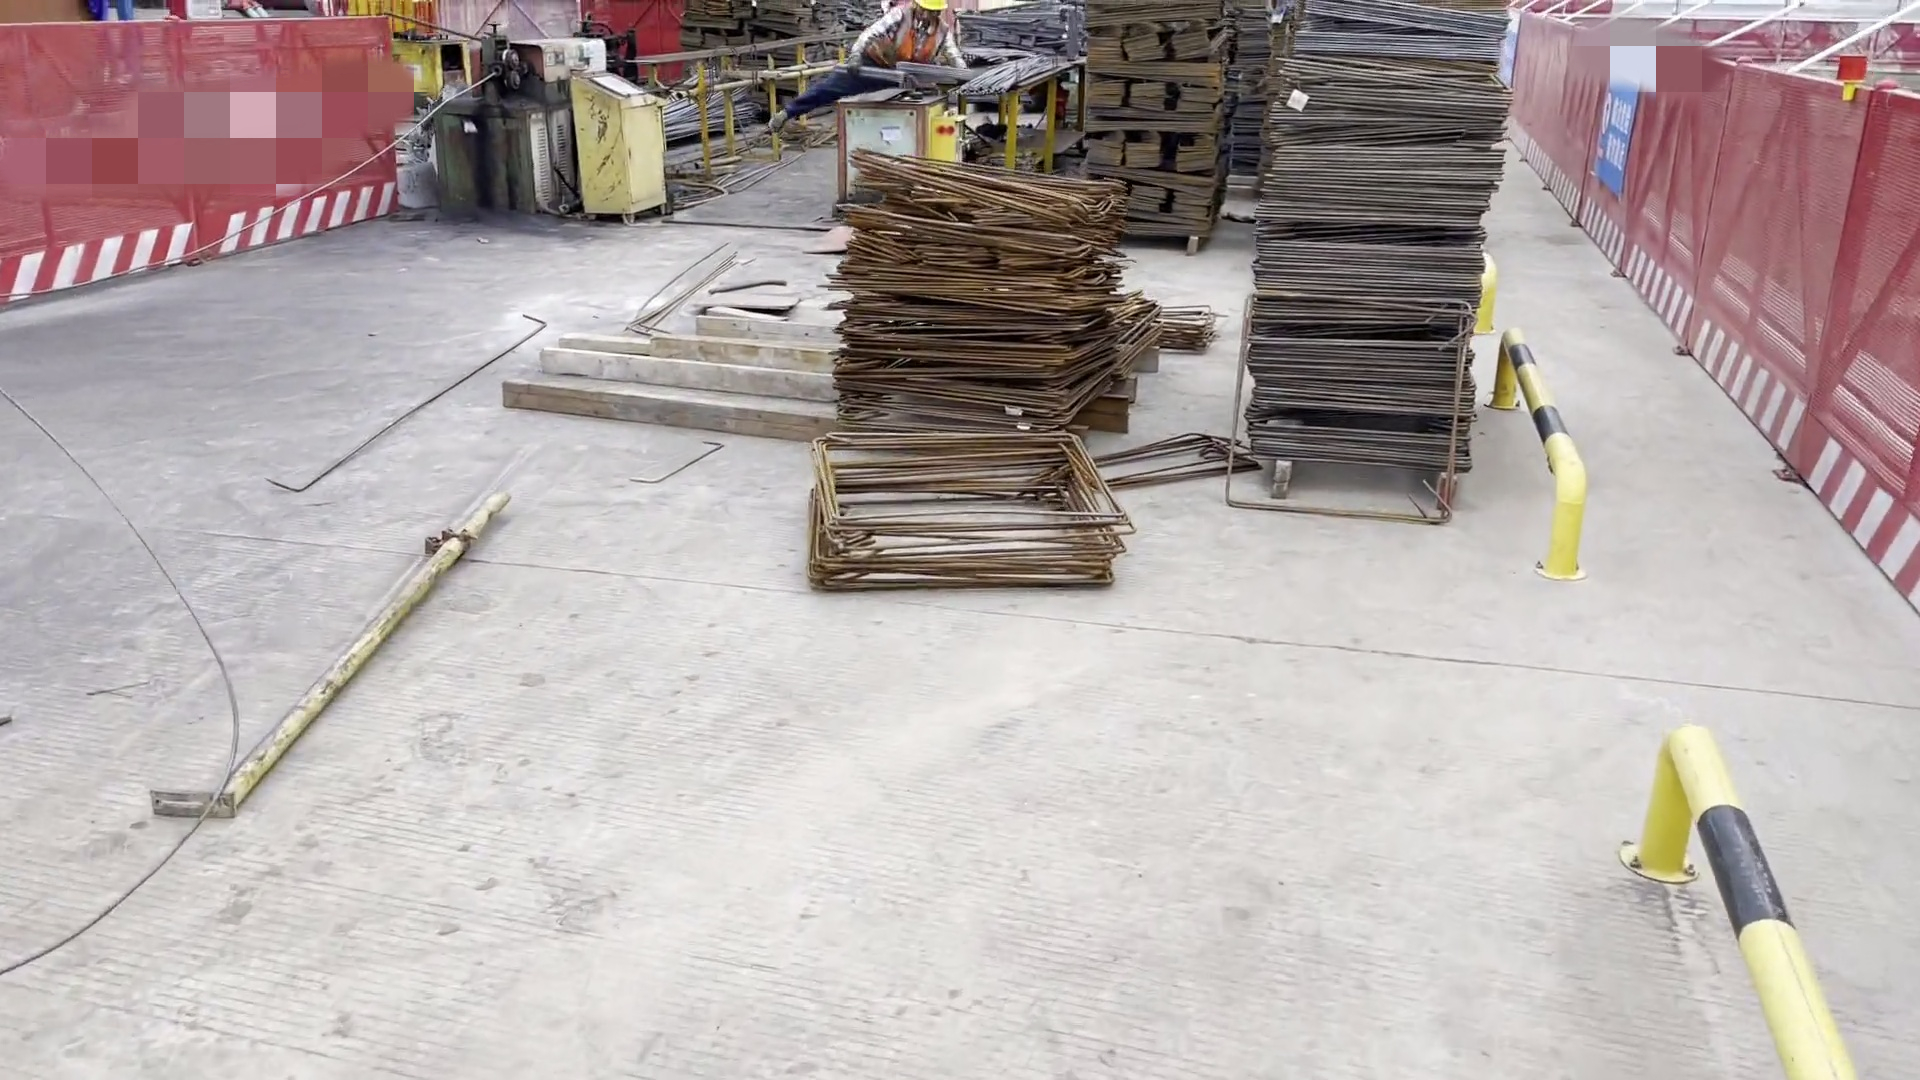cutter: (815, 72, 960, 195), (377, 24, 495, 120)
ebox: (553, 57, 679, 227)
fence: (1510, 11, 1920, 663), (1, 14, 417, 320)
helmet: (905, 3, 958, 23)
person: (843, 1, 978, 95)
rebar: (665, 85, 775, 139)
slogan: (1580, 68, 1649, 204), (1503, 16, 1527, 108)
vest: (857, 3, 987, 88)
